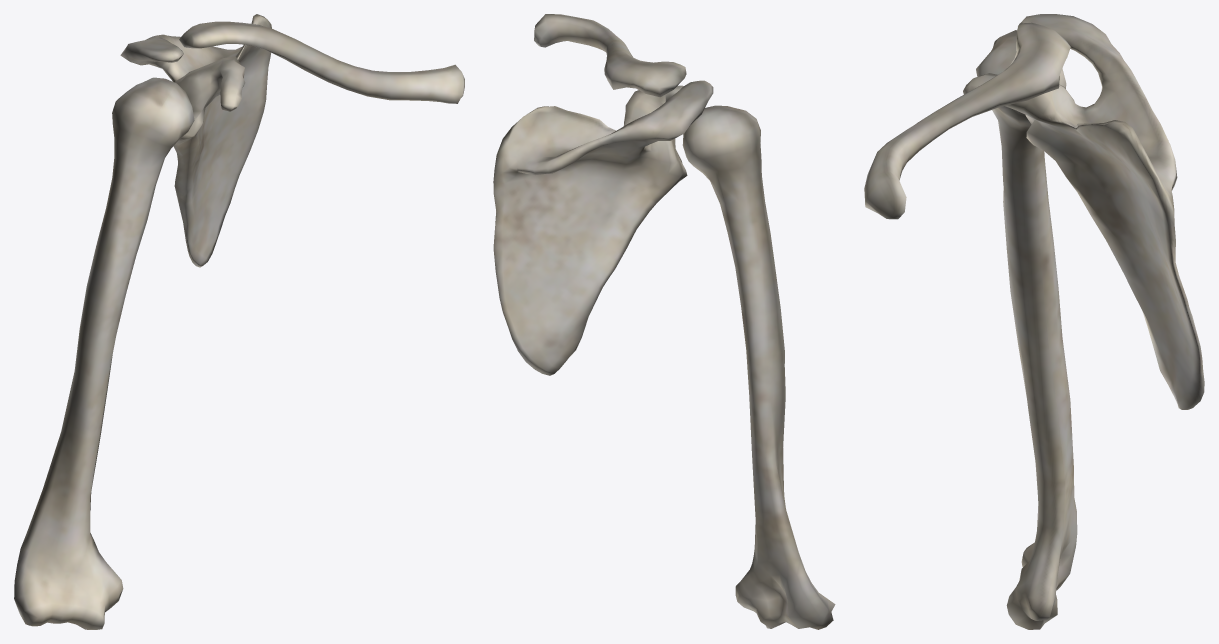
Rendered from shoulder-girdle.glb.
3 renders of one model, left to right at view 1: azimuth 30°, elevation 25°; view 2: azimuth 150°, elevation 25°; view 3: azimuth 270°, elevation 25°, orthographic. The views are drawn at different scales.
Parts seen in each view (by area): view 1: Right_humerus, Right_scapula, Right_clavicle; view 2: Right_scapula, Right_humerus, Right_clavicle; view 3: Right_scapula, Right_humerus, Right_clavicle.
Part boxes in pixels (box(x1,y1,x2,y2)): Right_humerus: box(14, 77, 194, 629); Right_scapula: box(120, 14, 271, 267); Right_clavicle: box(179, 21, 464, 103); Right_scapula: box(493, 80, 713, 375); Right_humerus: box(682, 105, 835, 629); Right_clavicle: box(534, 14, 686, 97); Right_scapula: box(963, 14, 1204, 409); Right_humerus: box(976, 30, 1077, 629); Right_clavicle: box(864, 22, 1070, 219).
Size of the model in its own units: 0.2265 by 0.3252 by 0.1511.
3 materials, 3 textured.
